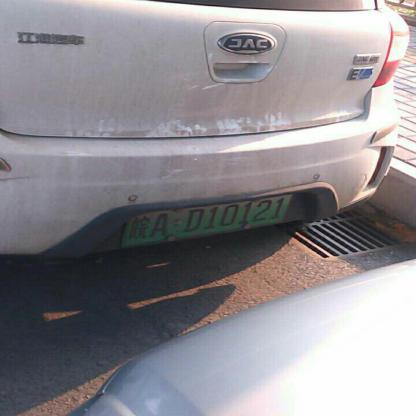lp: (122, 193, 292, 246)
